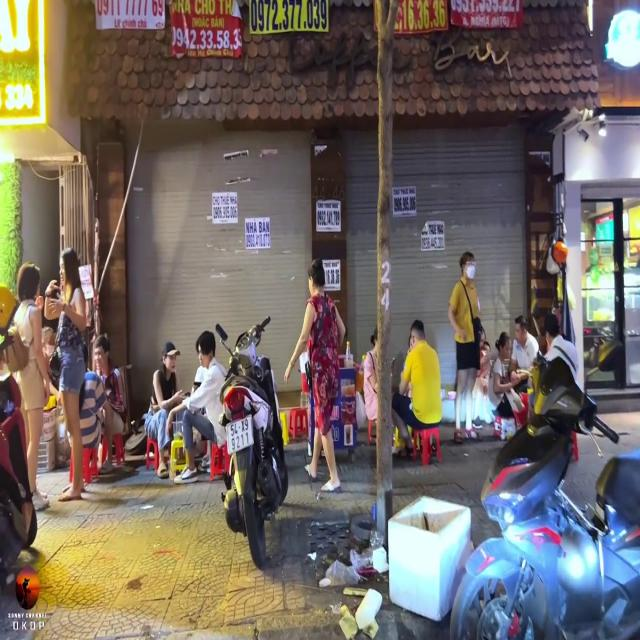bien_trang: (226, 417, 252, 450)
